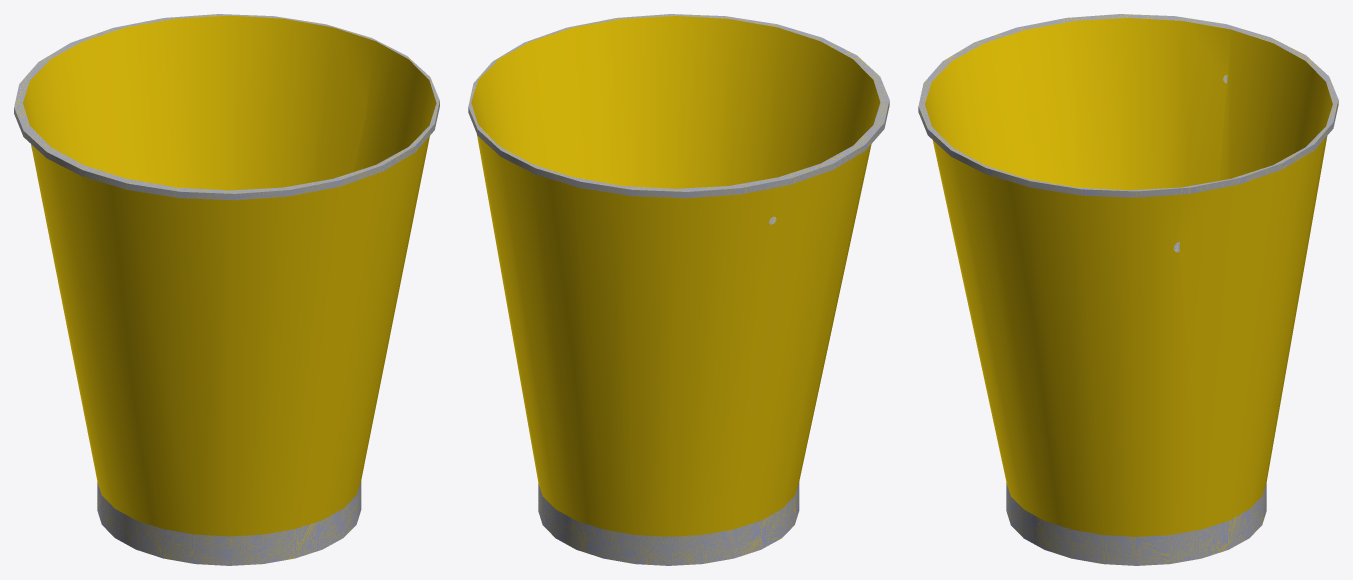
The model's file is bucket.fbx.
3 renders of one model, left to right at view 1: azimuth 30°, elevation 25°; view 2: azimuth 150°, elevation 25°; view 3: azimuth 270°, elevation 25°, orthographic.
Visible parts, largest first — view 1: Model; view 2: Model; view 3: Model.
Part boxes in pixels (x1=…): Model: x1=14, y1=14, x2=439, y2=565; Model: x1=468, y1=14, x2=889, y2=565; Model: x1=918, y1=14, x2=1338, y2=565.
Bounding box in the file's own units: 94.18 × 100 × 94.18.
